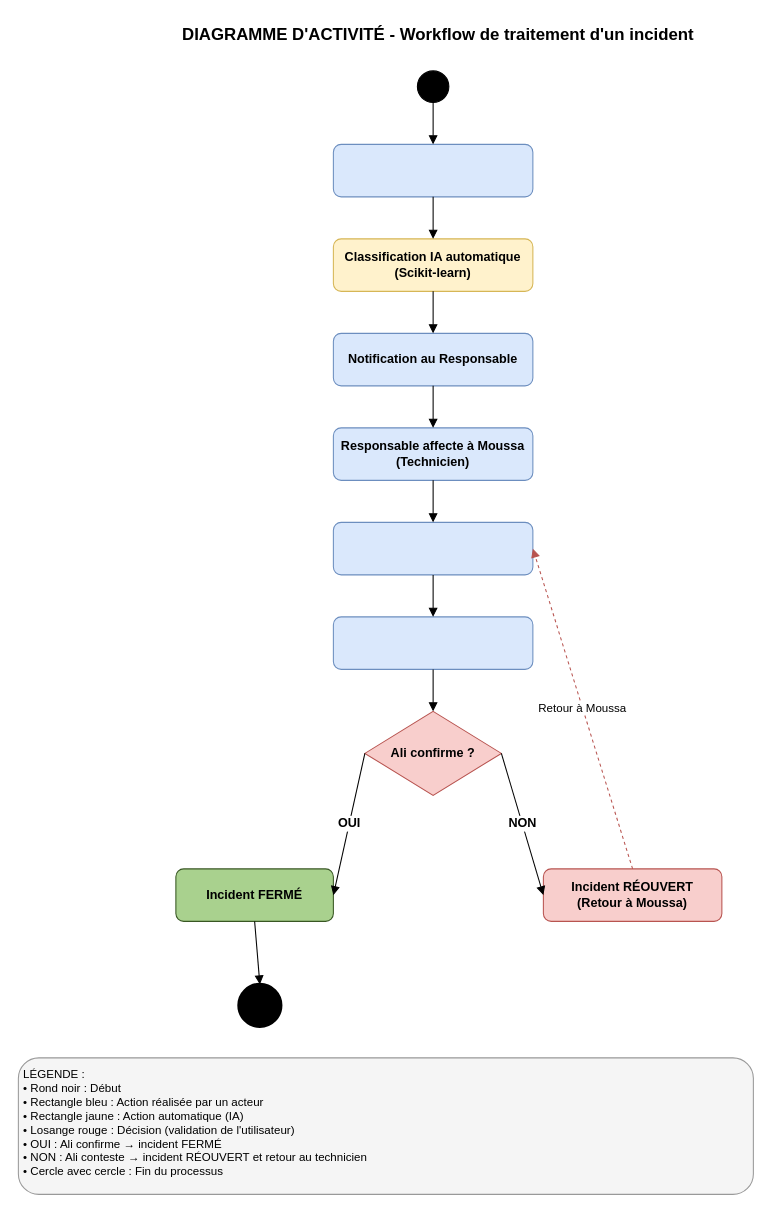
The diagram is 772 pixels wide and 1213 high, and some of its shapes have lost their labels. Each missing label, with the box of its shape:
Ali déclare un incident: (332, 143, 533, 197)
Moussa marque résolu: (332, 616, 533, 669)
Moussa traite l'incident: (332, 521, 533, 575)
